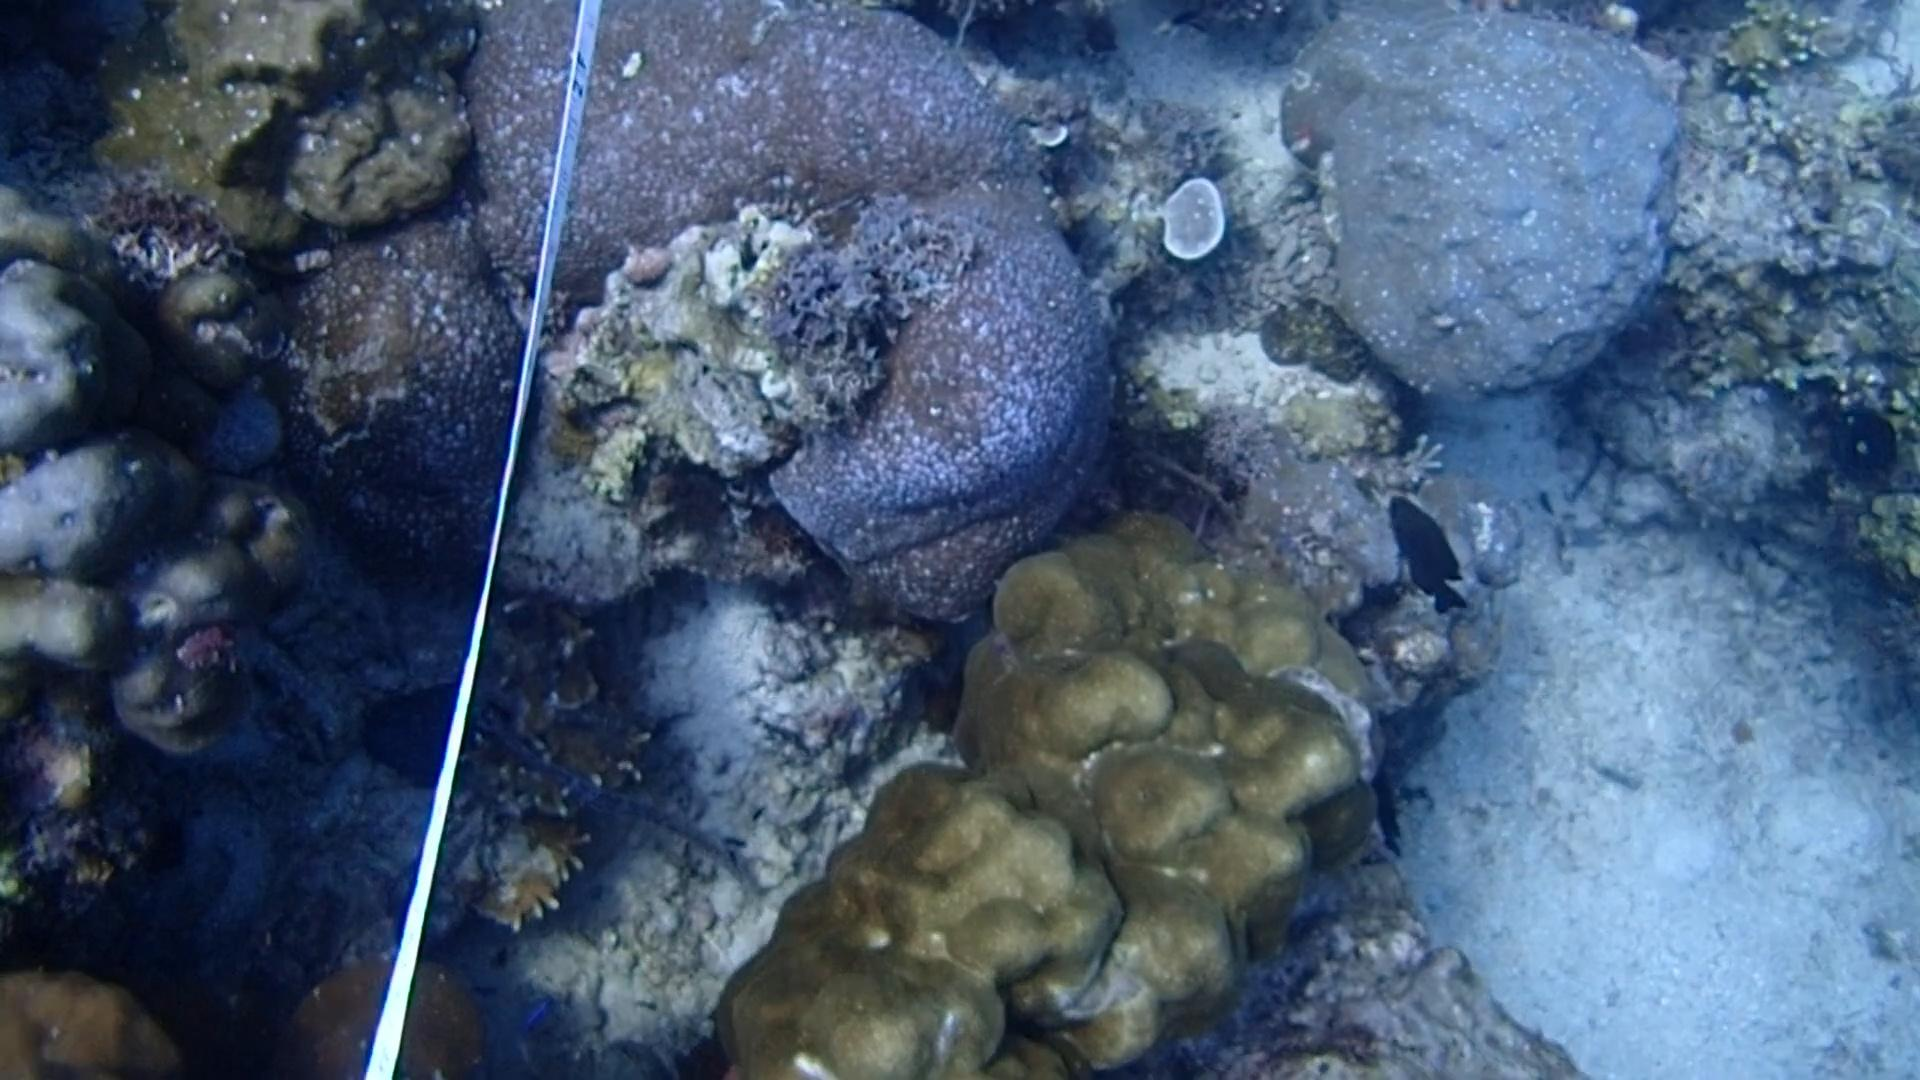Dark Fish: (1383, 485, 1480, 617)
